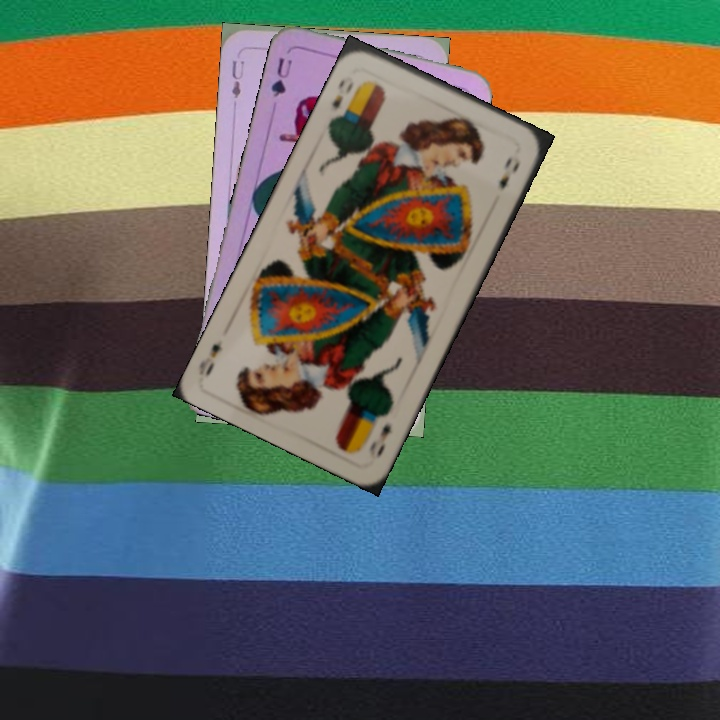EO: (365, 419, 394, 463), (327, 75, 357, 114)
EU: (227, 56, 248, 101)
GU: (267, 53, 295, 103)
